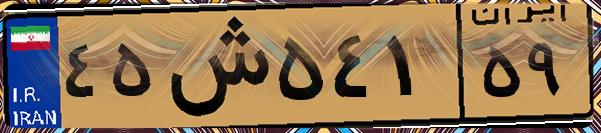1: (385, 28, 445, 110)
4: (330, 28, 385, 110), (57, 26, 110, 100)
5: (270, 28, 330, 110), (475, 38, 525, 113), (110, 28, 158, 98)
9: (525, 38, 570, 115)
ش: (158, 12, 270, 120)
